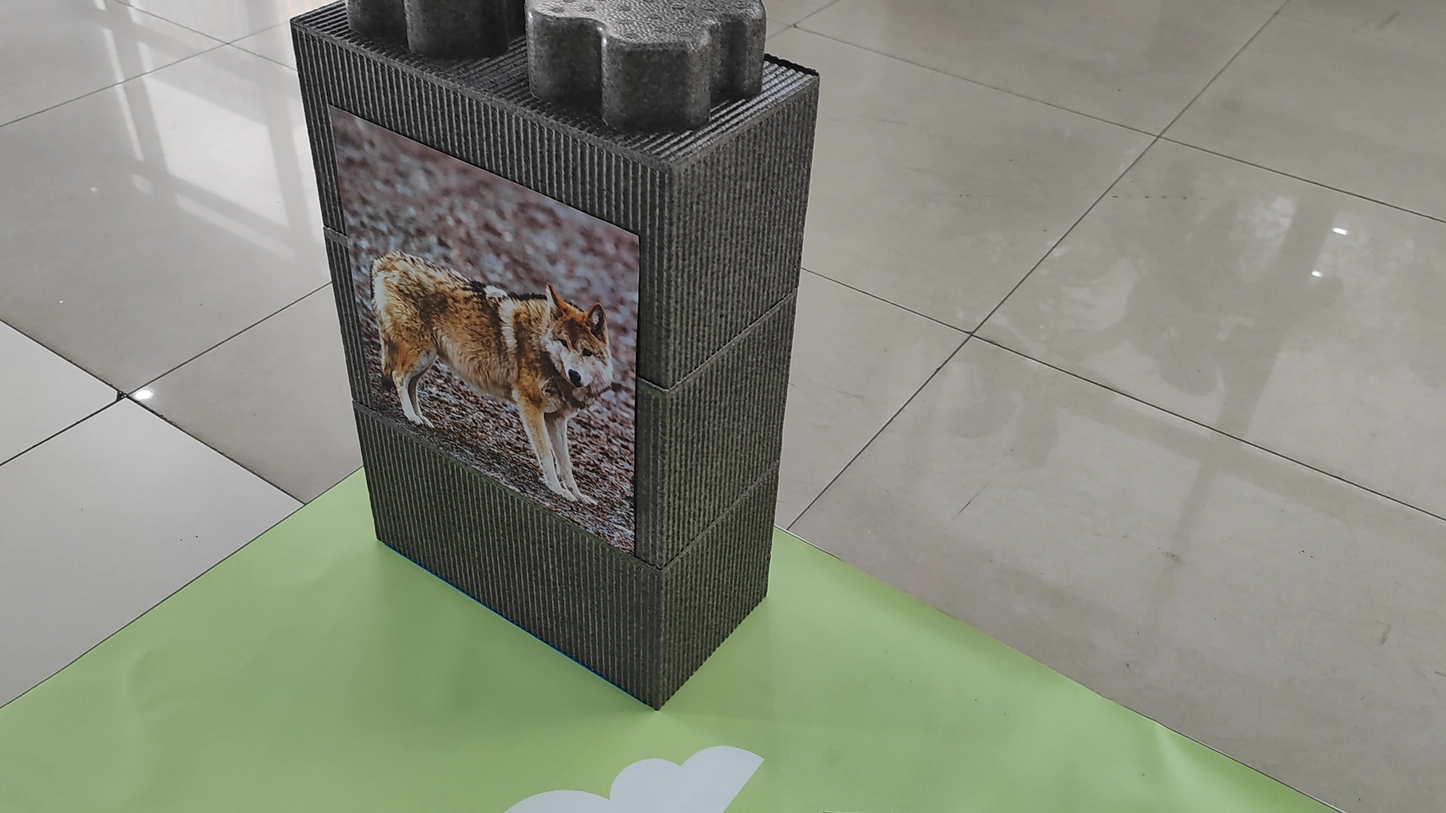wolf: (341, 114, 626, 530)
